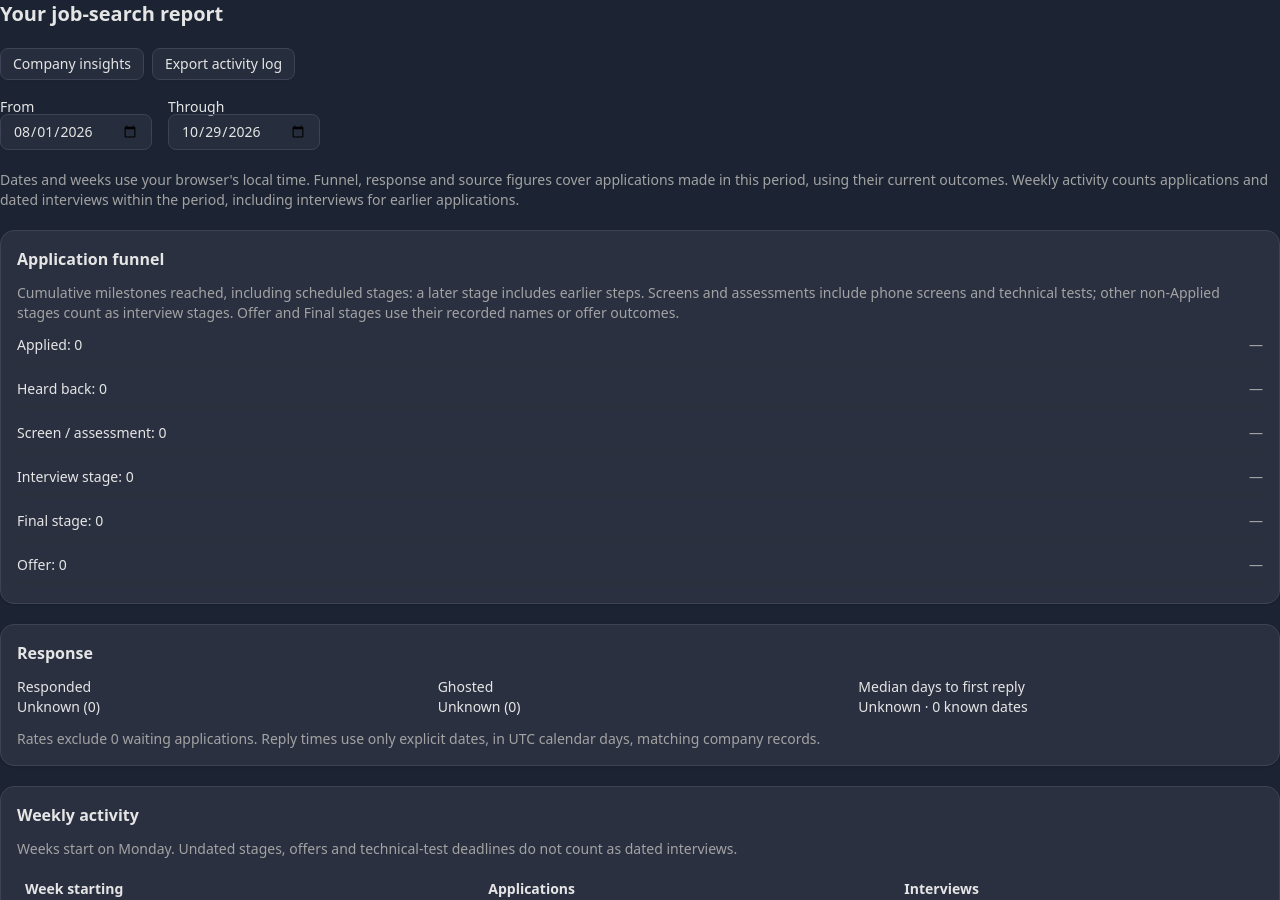
job-search report UI › shows a range error and hides stale metrics for backwards dates
Expected: the heading "Application funnel" is shown, [17,248,164,270]
Type "2026-02-01" into the date field labelled "From" at [76, 132], box [0,114,152,150]
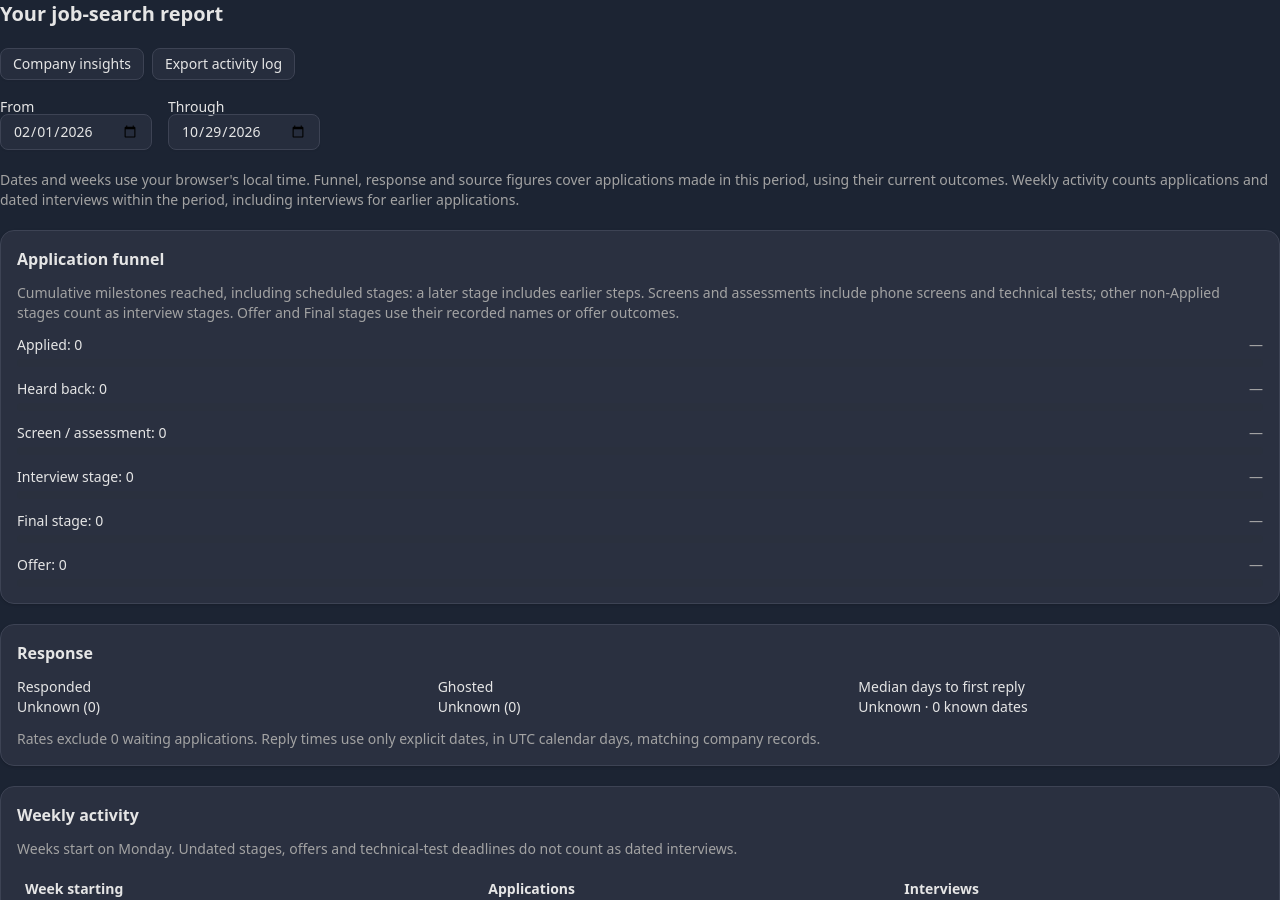
Type "2026-01-01" into the date field labelled "Through" at [244, 132], box [168,114,320,150]
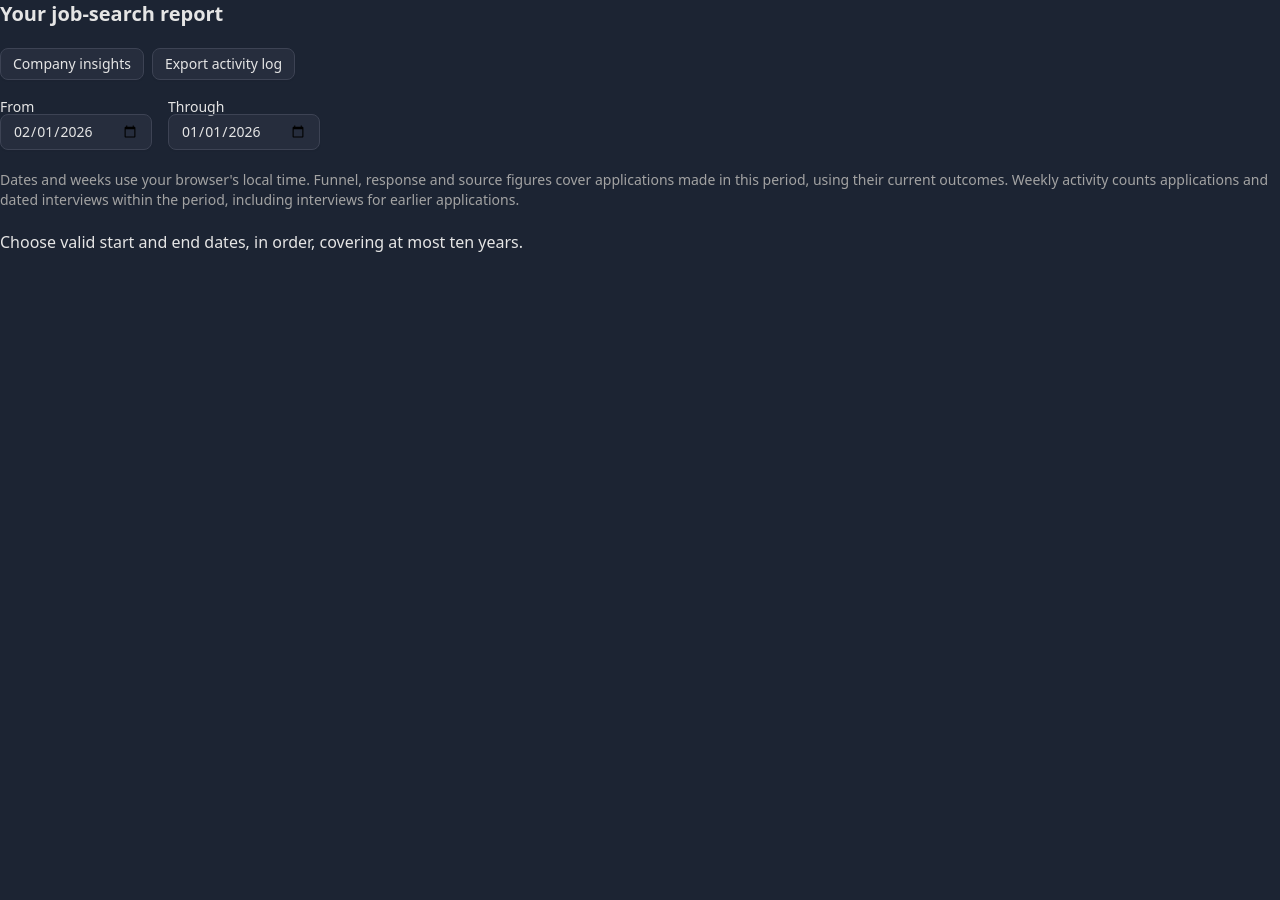
Expected: the message shows "Choose valid start and end dates", [0,231,523,253]
Expected: the heading "Application funnel" is gone
